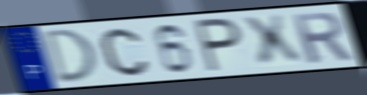6: (154, 22, 195, 75)
C: (98, 26, 151, 78)
D: (42, 27, 100, 86)
P: (193, 16, 244, 74)
R: (288, 10, 355, 65)
X: (239, 13, 308, 70)
